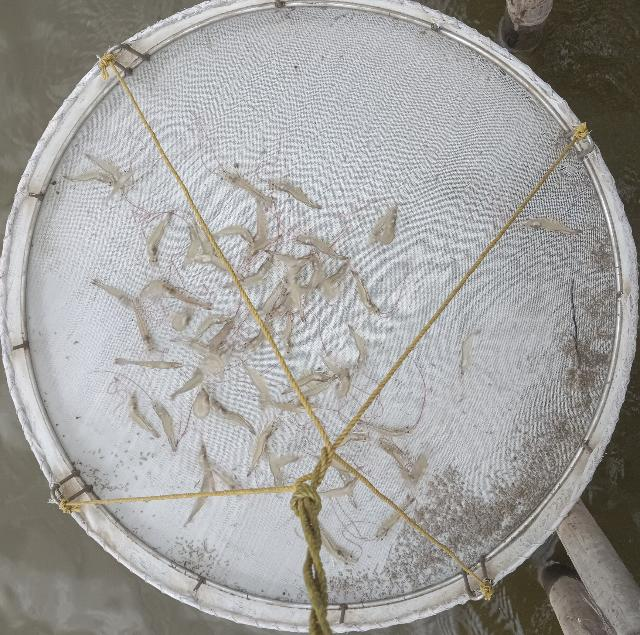shrimp: (218, 171, 277, 210), (375, 494, 414, 540), (247, 420, 279, 476), (223, 255, 271, 289), (240, 358, 269, 411), (161, 280, 212, 310), (212, 399, 255, 434), (378, 442, 413, 485), (245, 280, 283, 318), (146, 212, 172, 266), (129, 299, 155, 353), (268, 182, 321, 208), (351, 271, 381, 315), (86, 154, 123, 189), (292, 236, 347, 259), (130, 393, 158, 438), (193, 255, 243, 280), (152, 402, 176, 453), (282, 373, 337, 395), (241, 310, 272, 349), (518, 218, 583, 235), (104, 169, 137, 202), (191, 316, 232, 341), (209, 316, 235, 354), (92, 280, 129, 306), (303, 252, 321, 303), (357, 420, 413, 436), (246, 236, 280, 262), (248, 199, 265, 249), (211, 226, 253, 246), (348, 325, 366, 371), (181, 225, 198, 271), (114, 358, 182, 369), (265, 250, 311, 266), (63, 173, 115, 187), (193, 218, 213, 254), (336, 433, 370, 450), (283, 312, 293, 354)
